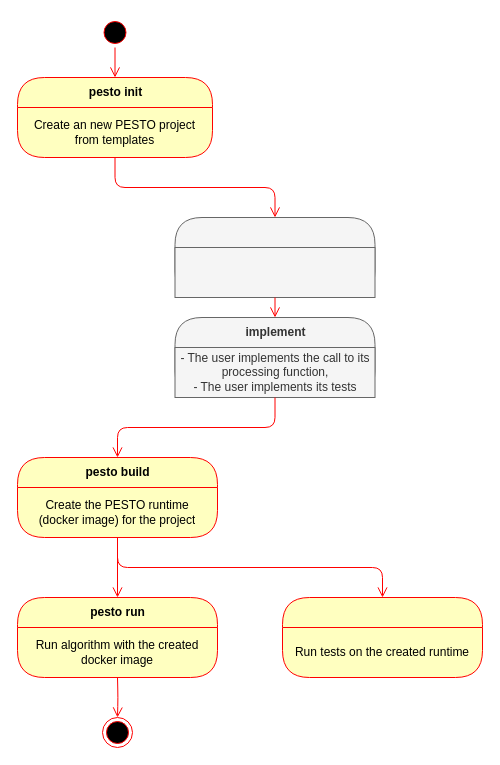
Some shapes in this 500 by 765 pixel diagram are drawn without their labels. Each missing label, with the box of its shape:
configure: (174, 216, 375, 298)
pesto test: (282, 596, 482, 678)
The user fills generated files to describe its algorithm (inputs, outputs, ...): (174, 246, 375, 298)
